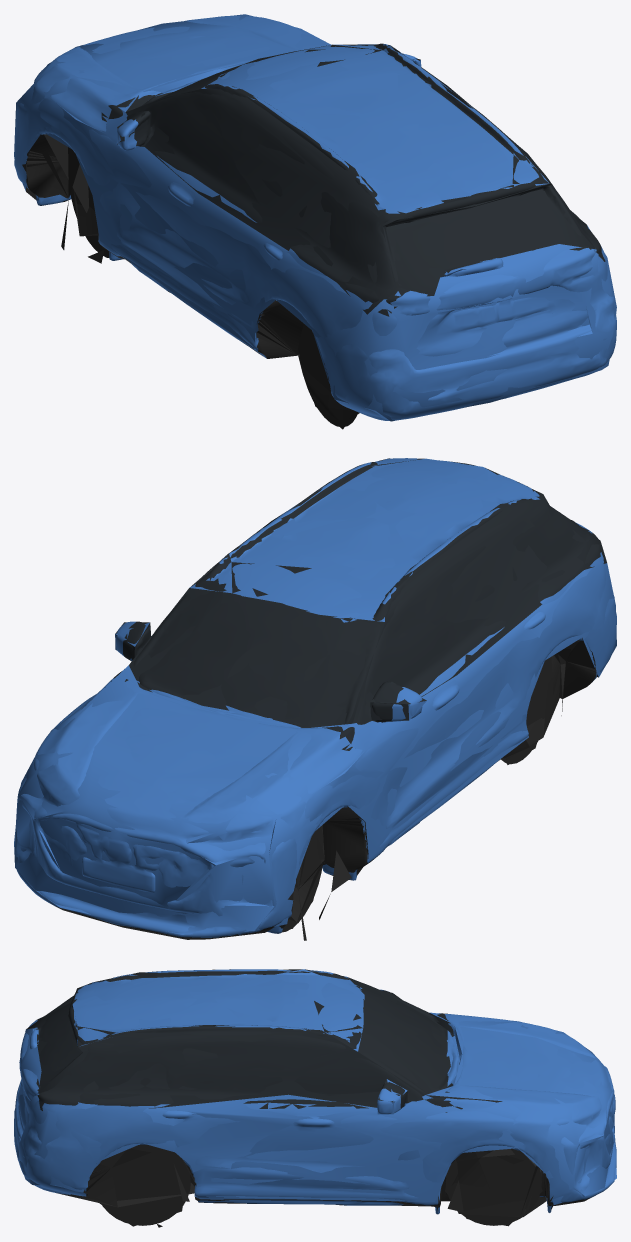
Rendered from audi-q5.glb.
3 renders of one model, top to bottom at view 1: azimuth 30°, elevation 25°; view 2: azimuth 150°, elevation 25°; view 3: azimuth 270°, elevation 25°, orthographic. The views are drawn at different scales.
Visible parts, largest first — view 1: body, far; view 2: body, far; view 3: body, far.
Boxes of the visible parts, x1=… form: body: x1=14, y1=15, x2=616, y2=427; far: x1=14, y1=14, x2=616, y2=429; body: x1=15, y1=458, x2=616, y2=940; far: x1=14, y1=458, x2=616, y2=934; body: x1=14, y1=969, x2=616, y2=1227; far: x1=14, y1=969, x2=616, y2=1226.
Bounding box in the file's own units: 2.13 × 1.71 × 4.83.
